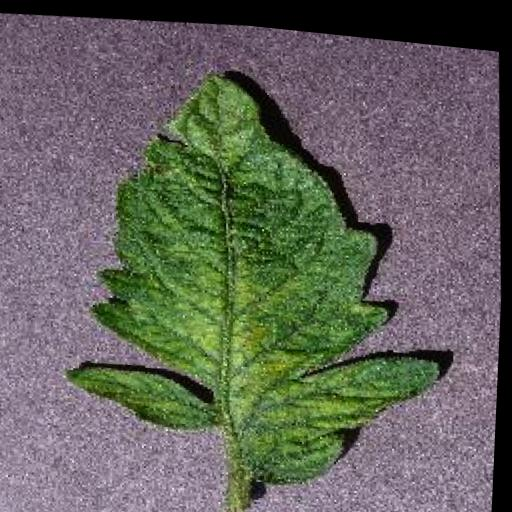Mosaic Virus: (45, 40, 461, 505)
